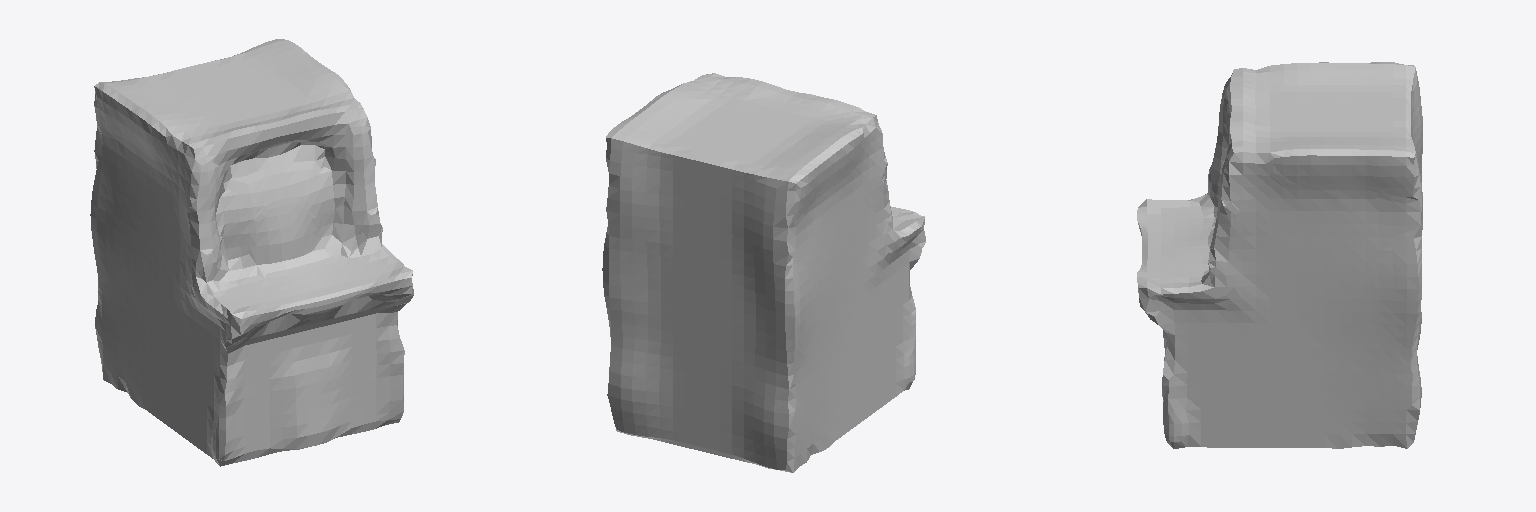
The model's file is bloby cab.obj.
3 renders of one model, left to right at view 1: azimuth 30°, elevation 25°; view 2: azimuth 150°, elevation 25°; view 3: azimuth 270°, elevation 25°, orthographic.
Parts seen in each view (by area): view 1: Cube; view 2: Cube; view 3: Cube.
Boxes of the visible parts, <box> form: Cube: <box>90,39,413,466</box>; Cube: <box>602,73,925,472</box>; Cube: <box>1137,62,1422,448</box>.
Size of the model in its own units: 1.63 by 2.43 by 2.09.